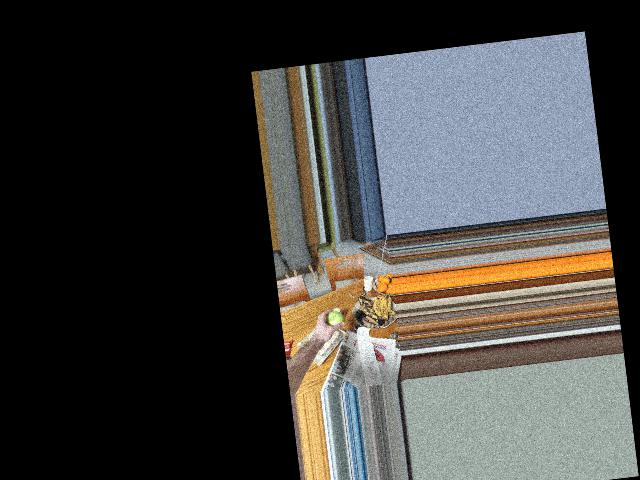apple: (323, 309, 345, 330)
